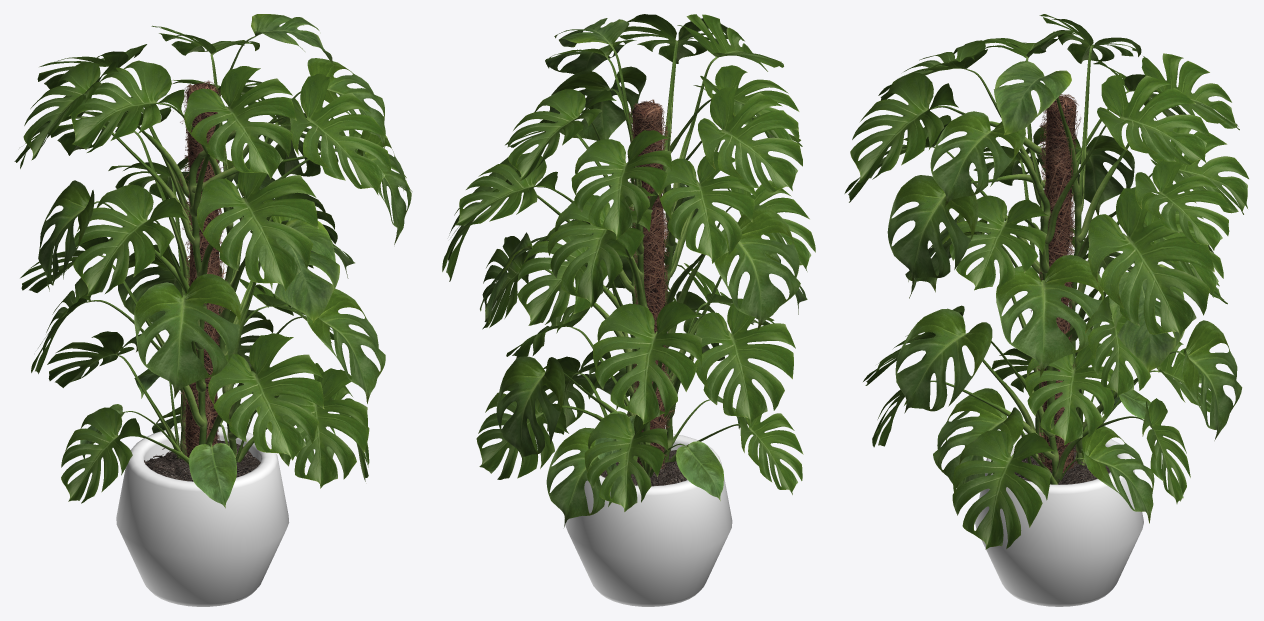
Rendered from plant.glb.
3 views of the same model, side by side, from view 1: azimuth 30°, elevation 25°; view 2: azimuth 150°, elevation 25°; view 3: azimuth 270°, elevation 25° (orthographic). The views are drawn at different scales.
Visible parts, largest first — view 1: Leaves, Vase, Fiber stick, Soil; view 2: Leaves, Vase, Fiber stick, Soil; view 3: Leaves, Vase, Fiber stick, Soil.
Boxes of the visible parts, <box> form: Leaves: <box>14,14,412,508</box>; Vase: <box>116,426,289,606</box>; Fiber stick: <box>173,80,227,460</box>; Soil: <box>146,440,260,481</box>; Leaves: <box>442,14,815,527</box>; Vase: <box>565,433,732,606</box>; Fiber stick: <box>627,99,674,469</box>; Soil: <box>601,450,686,485</box>; Leaves: <box>844,14,1248,549</box>; Vase: <box>975,433,1143,606</box>; Fiber stick: <box>1030,94,1081,472</box>; Soil: <box>1014,445,1110,484</box>.
Size of the model in its own units: 0.8062 by 1.29 by 0.8671.
Materials: 5 (4 with a texture image).
